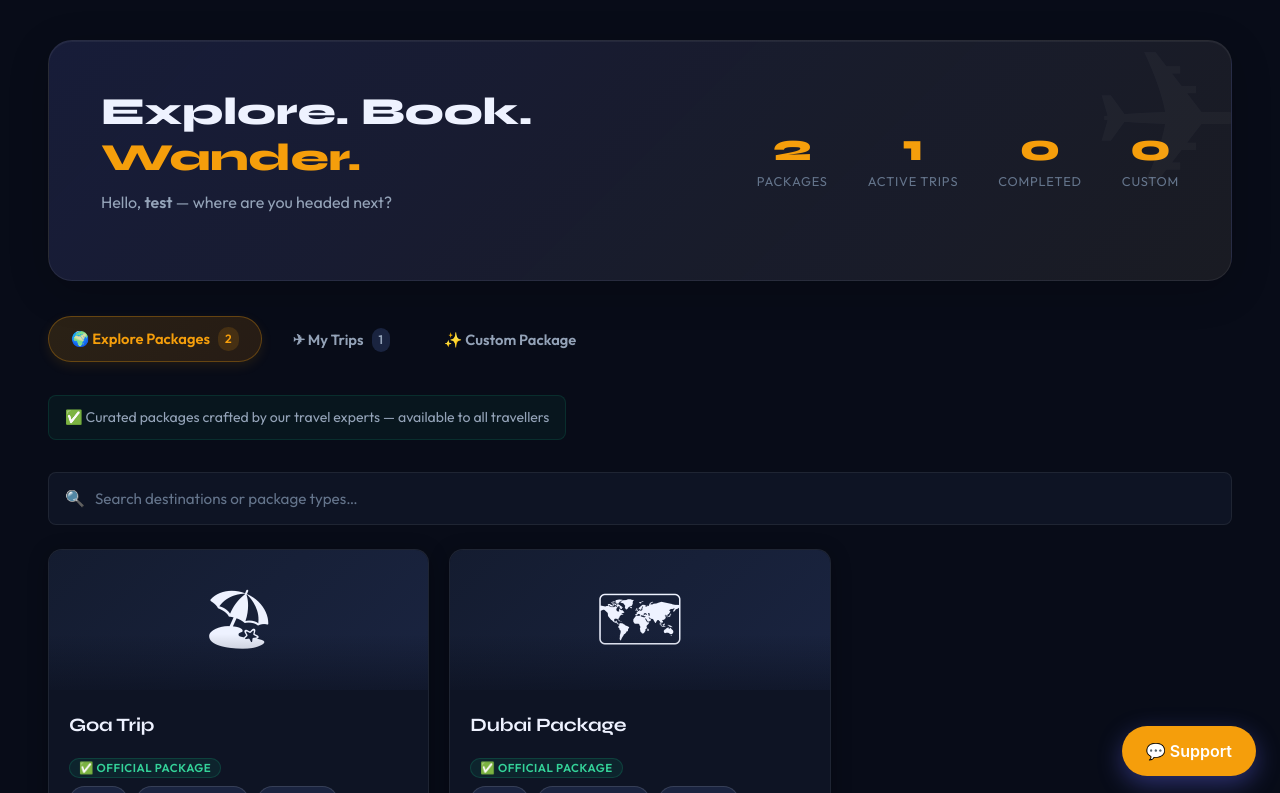
Scenario: Dashboard Page › filters packages by search input
Check: the text "Goa Trip" is shown, box [69,714,154,736]
Type "Dubai" into the field with placeholder "Search destinations or package types…" at (655, 498), box [95,473,1215,524]
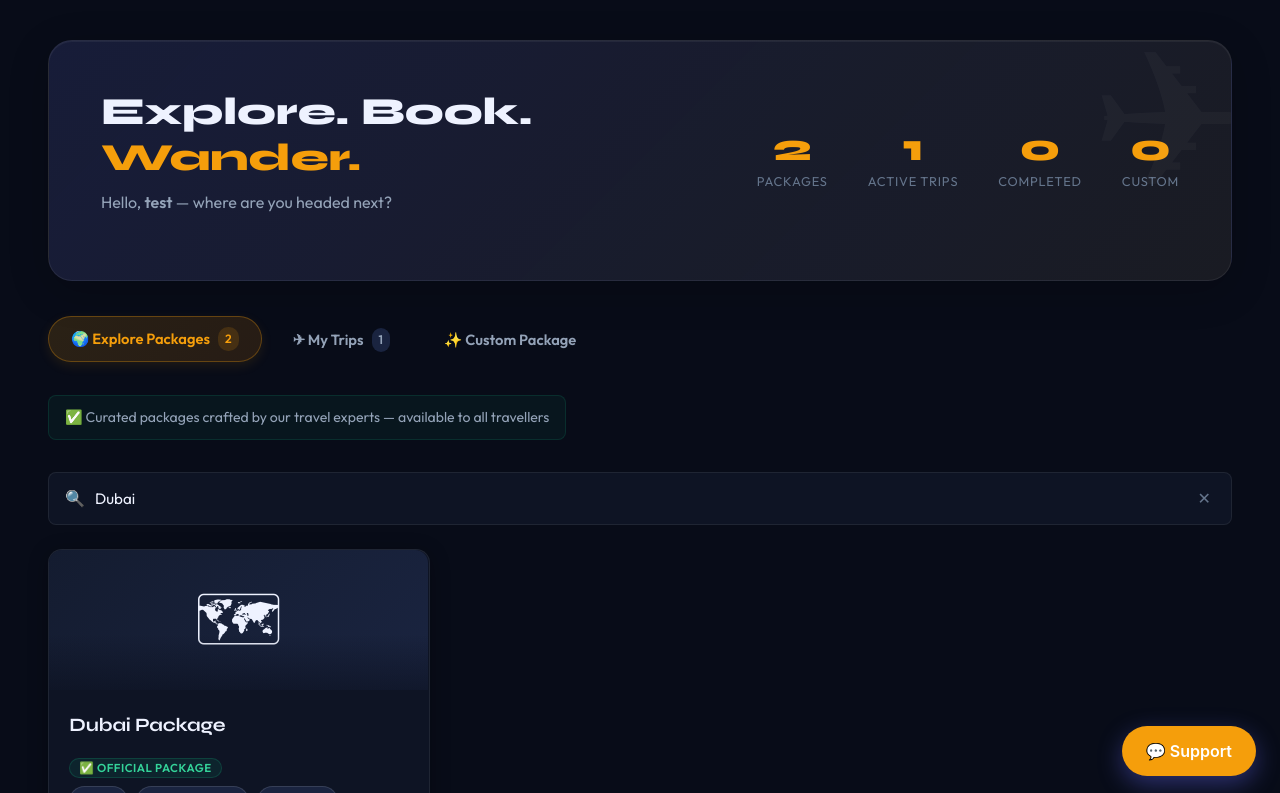
Check: the text "Dubai Package" is shown, box [69,714,225,736]
Check: the text "Goa Trip" is gone
Click the button "✕" at (1204, 499), box [1194,481,1215,516]
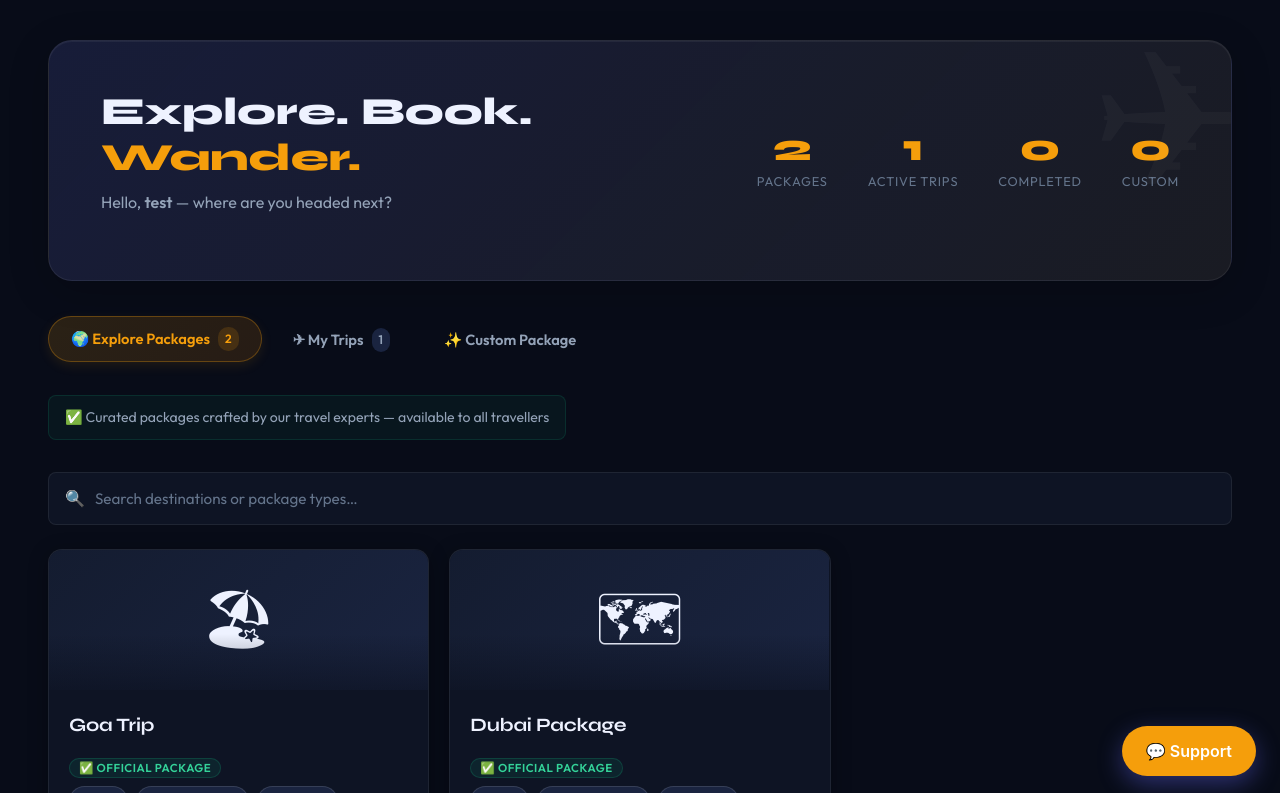
Check: the text "Goa Trip" is shown, box [69,714,154,736]
